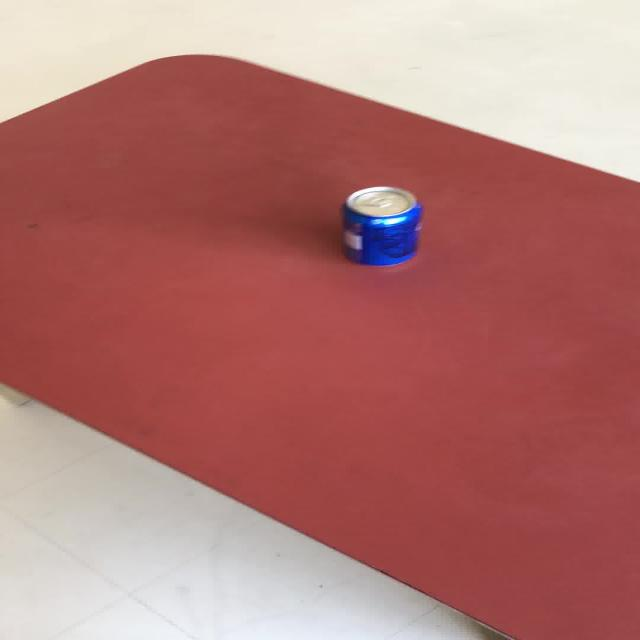tonic: (340, 185, 422, 266)
